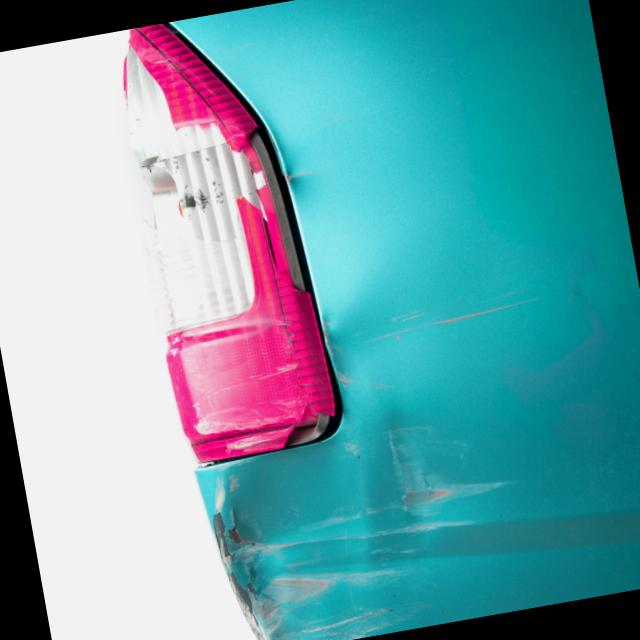Cabossage: (197, 428, 402, 640)
Phare abime: (189, 407, 593, 640), (104, 15, 319, 364)
Rayure: (326, 278, 583, 414)
